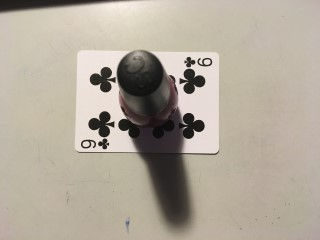NineOfClubs: (75, 50, 220, 154)
